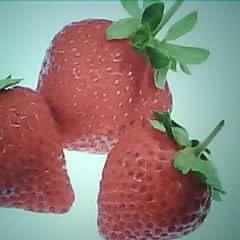straw-ripe: (37, 17, 171, 153), (98, 126, 211, 240), (0, 82, 75, 215)
